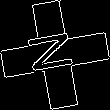N_E: (27, 31, 83, 79)
